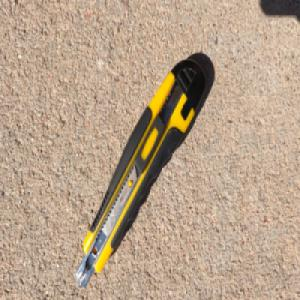Cutter: (75, 54, 207, 287)
